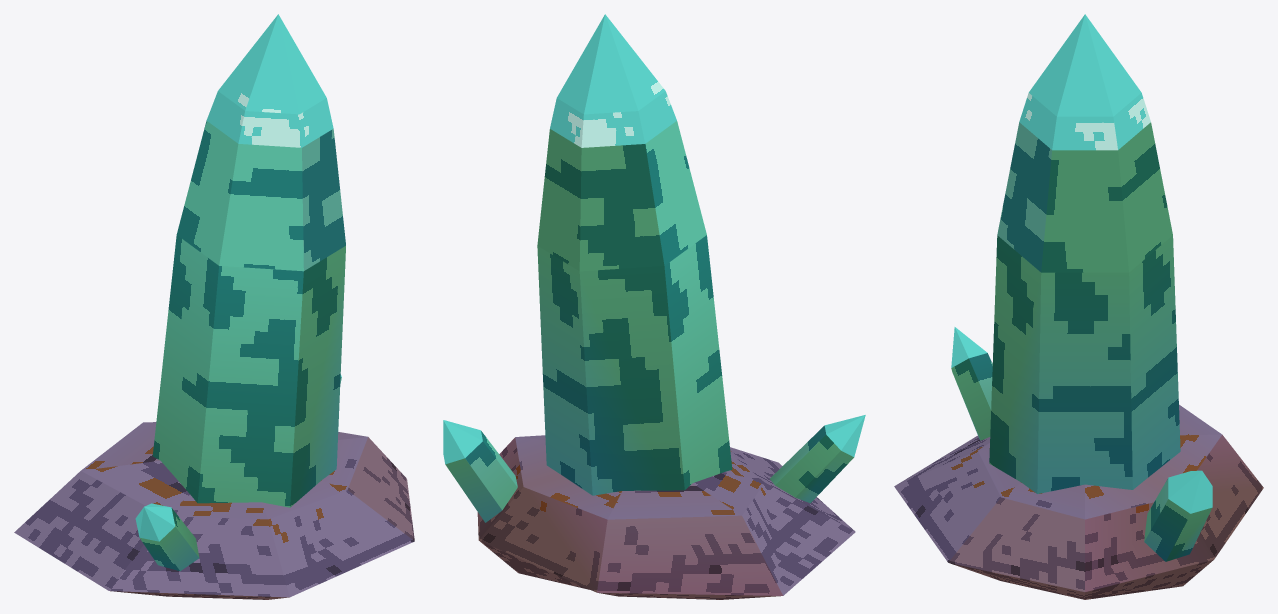
The model's file is alien.spire__short.glb.
3 views of the same model, side by side, from view 1: azimuth 30°, elevation 25°; view 2: azimuth 150°, elevation 25°; view 3: azimuth 270°, elevation 25° (orthographic). The views are drawn at different scales.
Parts seen in each view (by area): view 1: kit_spire, kit_foot, kit_satellite_1; view 2: kit_spire, kit_foot, kit_satellite_0, kit_satellite_1; view 3: kit_spire, kit_foot, kit_satellite_0, kit_satellite_1.
Part boxes in pixels (box(x1,y1,x2,y2)): kit_spire: box(152, 14, 345, 507); kit_foot: box(14, 422, 414, 599); kit_satellite_1: box(135, 503, 199, 571); kit_spire: box(537, 14, 732, 495); kit_foot: box(477, 435, 855, 599); kit_satellite_0: box(443, 420, 517, 522); kit_satellite_1: box(770, 415, 865, 503); kit_spire: box(989, 14, 1180, 493); kit_foot: box(894, 404, 1263, 599); kit_satellite_0: box(1144, 470, 1212, 561); kit_satellite_1: box(951, 327, 992, 440).
Bounding box in the file's own units: 2.66 × 3.88 × 2.36.
Materials: 3 (3 with a texture image).
